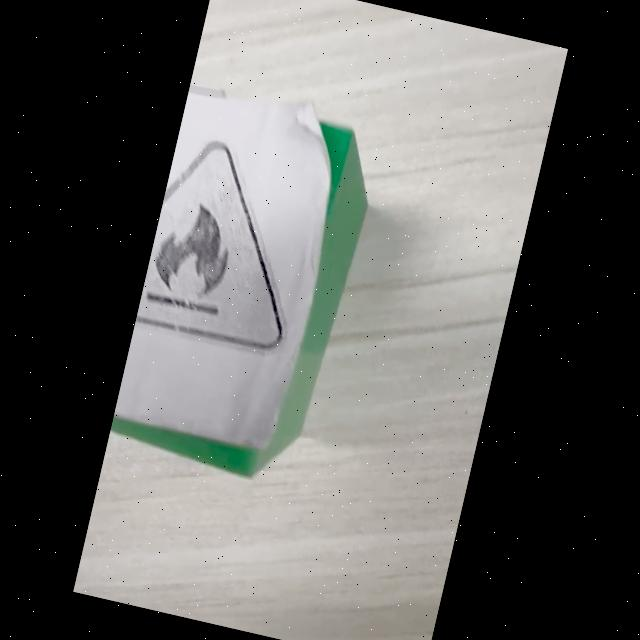Fire: (135, 140, 280, 350)
